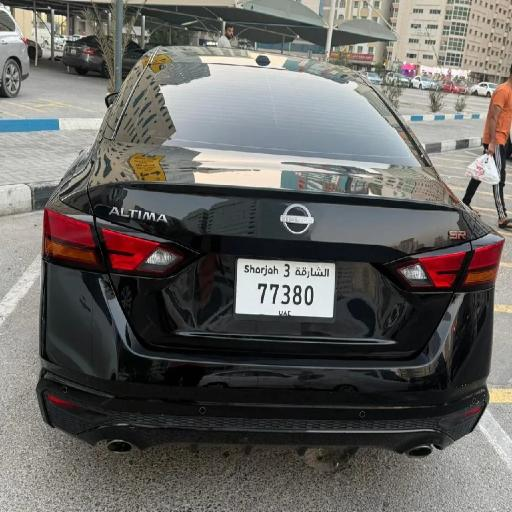license-plates: (235, 259, 336, 317)
